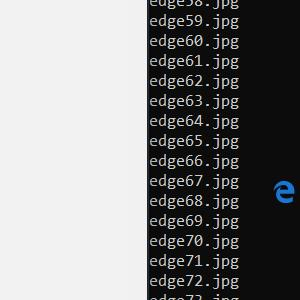edge: (273, 180, 294, 204)
